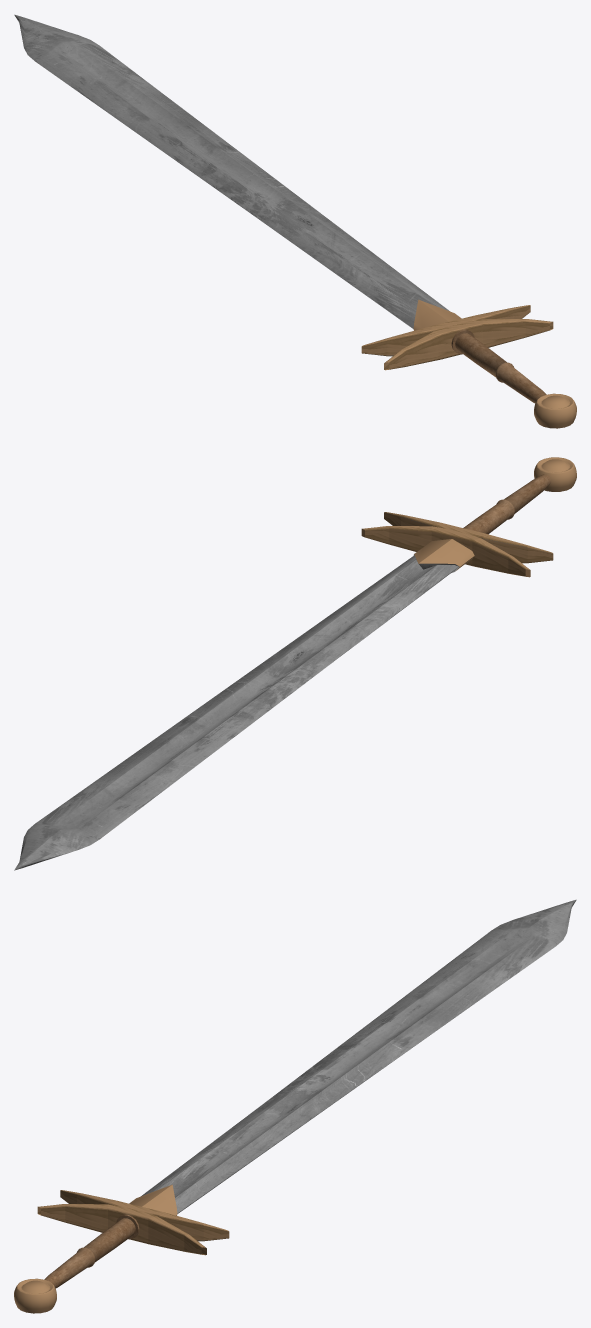
File: Longsword_4.fbx
3 views of the same model, one above another, from view 1: azimuth 30°, elevation 25°; view 2: azimuth 150°, elevation 25°; view 3: azimuth 330°, elevation 25° (orthographic).
Parts seen in each view (by area): view 1: LongSword.003; view 2: LongSword.003; view 3: LongSword.003.
Boxes of the visible parts, x1,y1,x2,y2 form: LongSword.003: (14, 14, 576, 428); LongSword.003: (14, 457, 576, 870); LongSword.003: (14, 899, 576, 1313).
Size of the model in its own units: 25.59 by 3.79 by 145.
